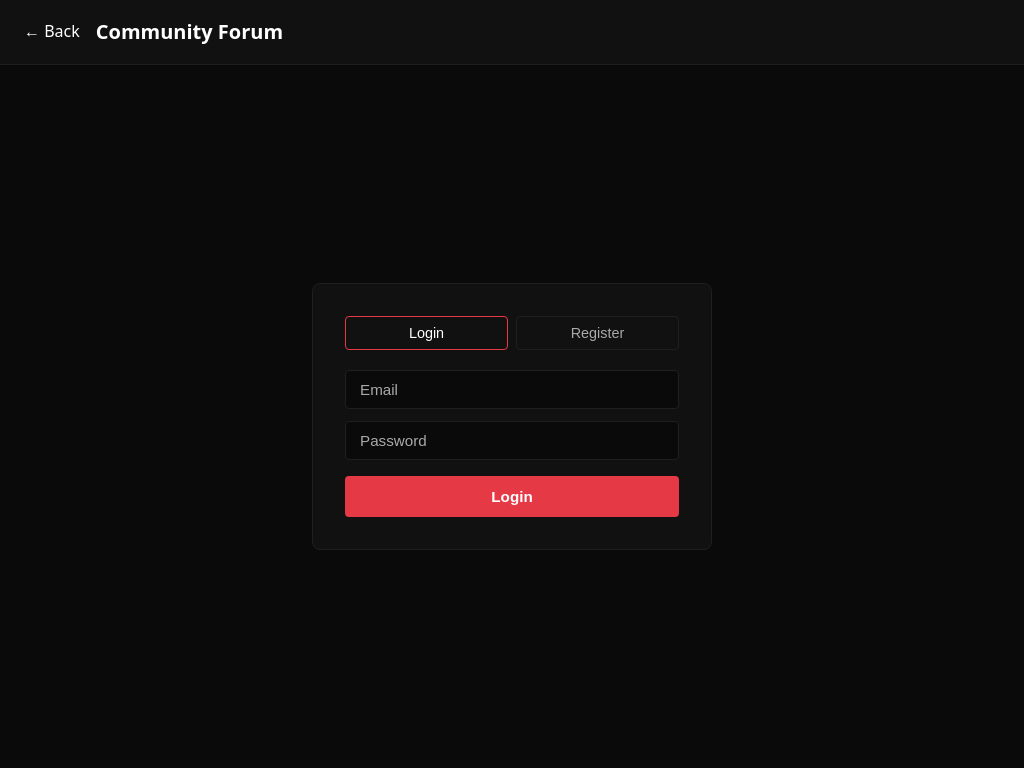
Test: Forum › switches to register tab when clicked
Click the button "Register". click: (598, 333)
box: [516,316,679,350]
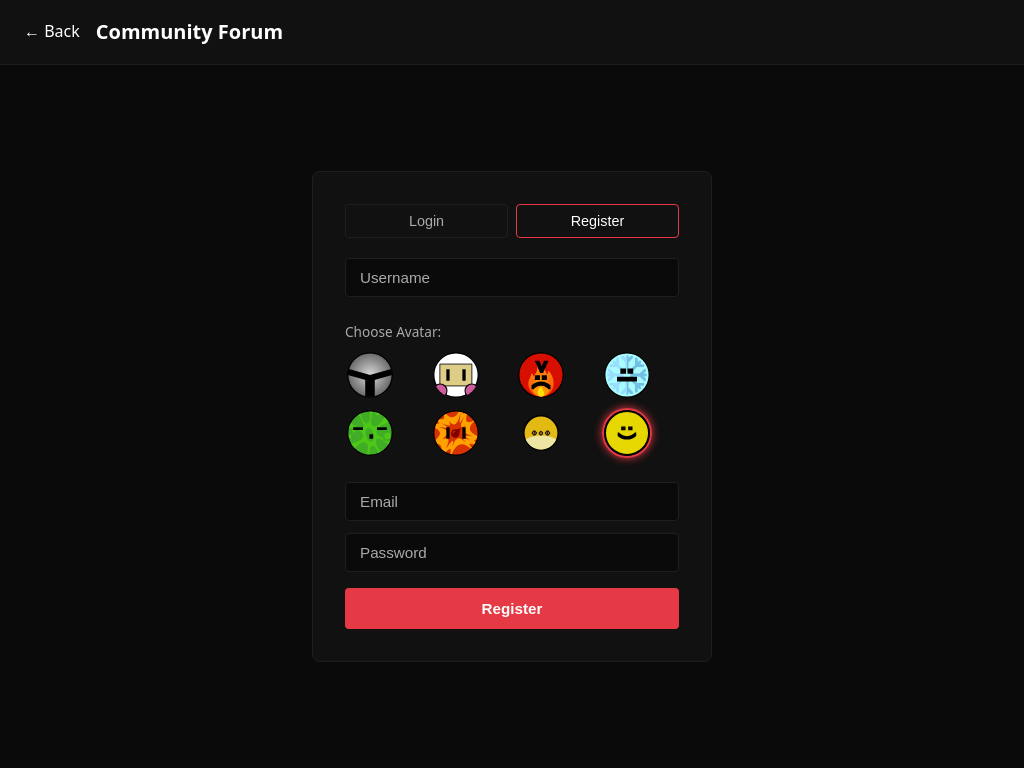
Expected: the field with placeholder "Username" is shown, [345,258,679,297]
